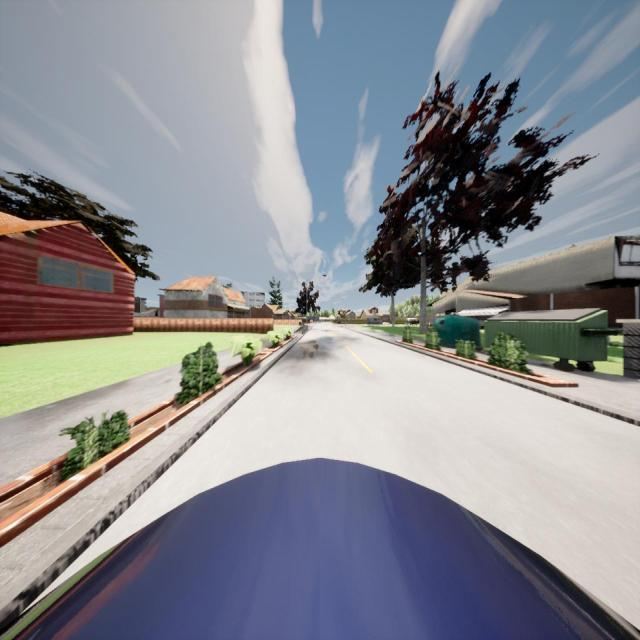Vehicle: (0, 458, 640, 640), (366, 317, 384, 324), (405, 318, 419, 326), (318, 320, 322, 324)
